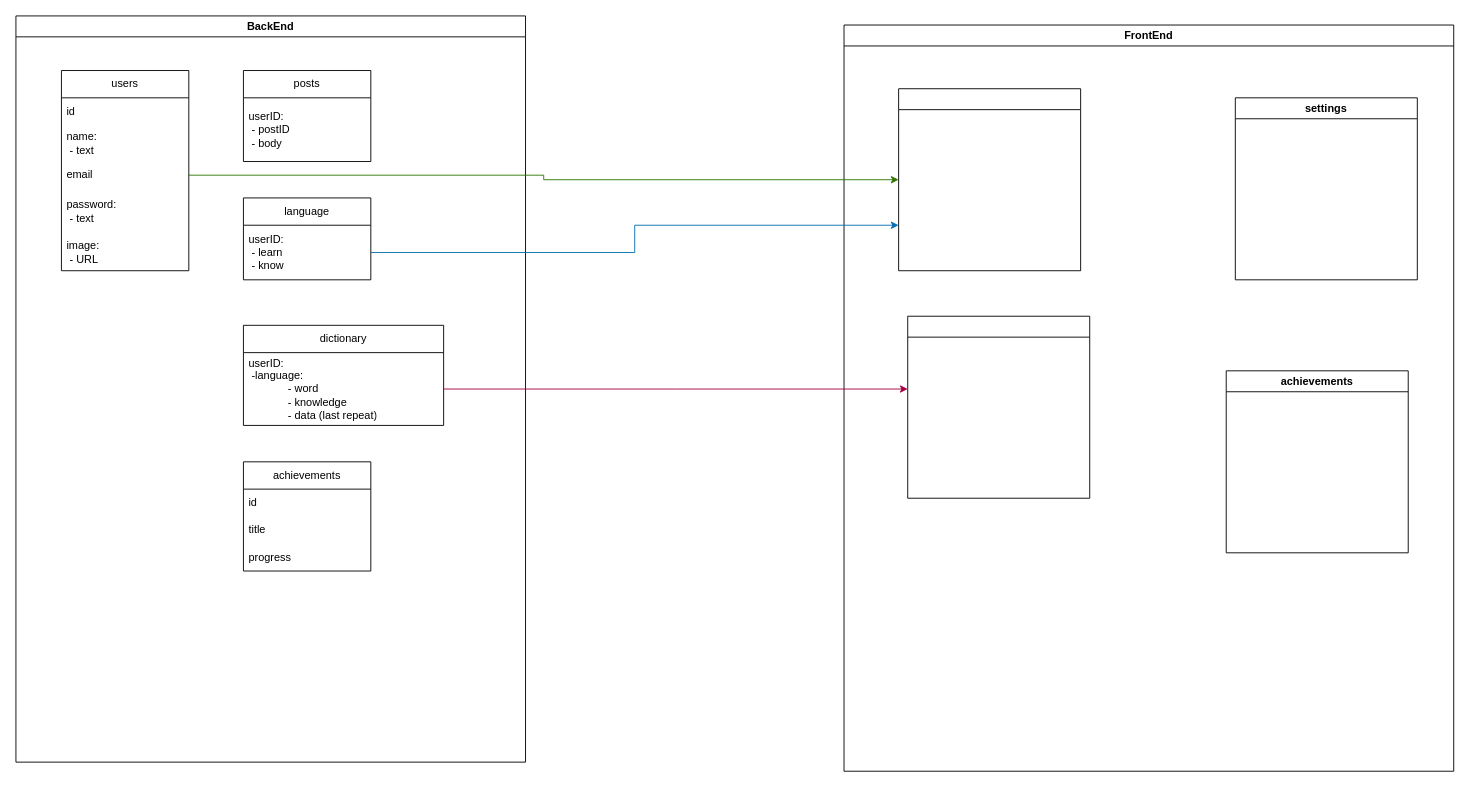
Image size: 1470x787. Some labels were removed from this diagram. The centre of each missing label's shape, as x and y in pixels:
Gym: point (998, 406)
Profile page: point (989, 179)
